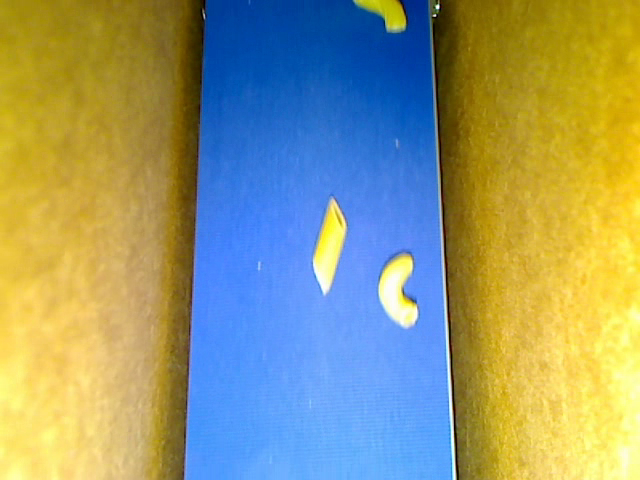elbow: (378, 251, 419, 330), (352, 1, 407, 34)
penne: (311, 196, 349, 294)
